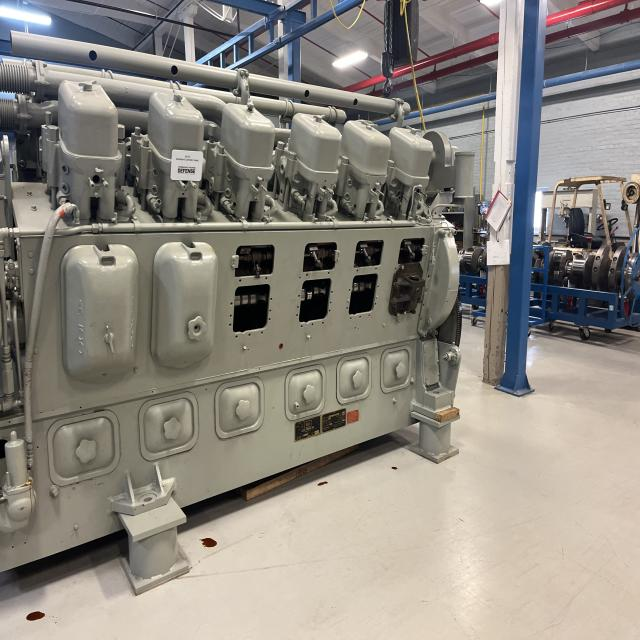Oil Leak: (26, 611, 45, 621), (201, 538, 217, 547), (318, 481, 328, 486), (391, 466, 397, 470)
